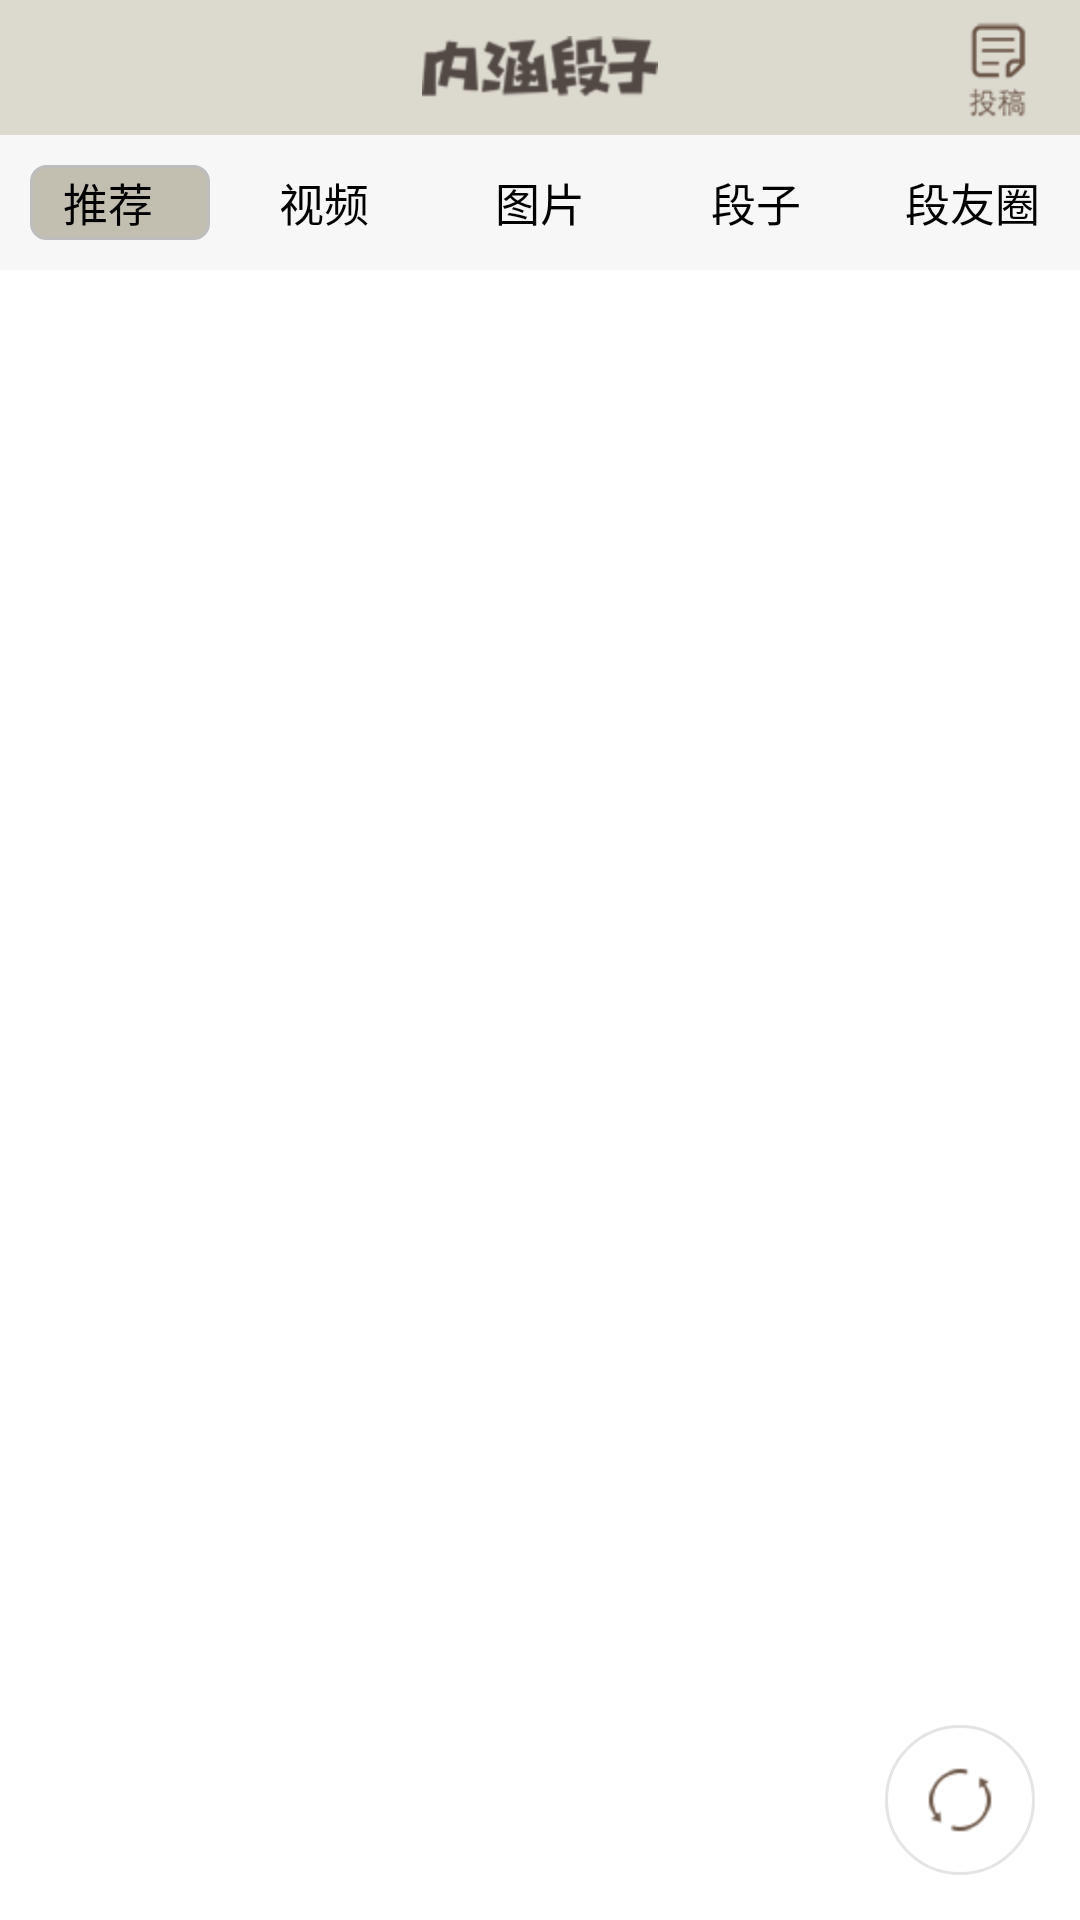

Where to tap for icons on this 1080 x 1920 app screen, as point (x, y):
refresh: point (960, 1800)
